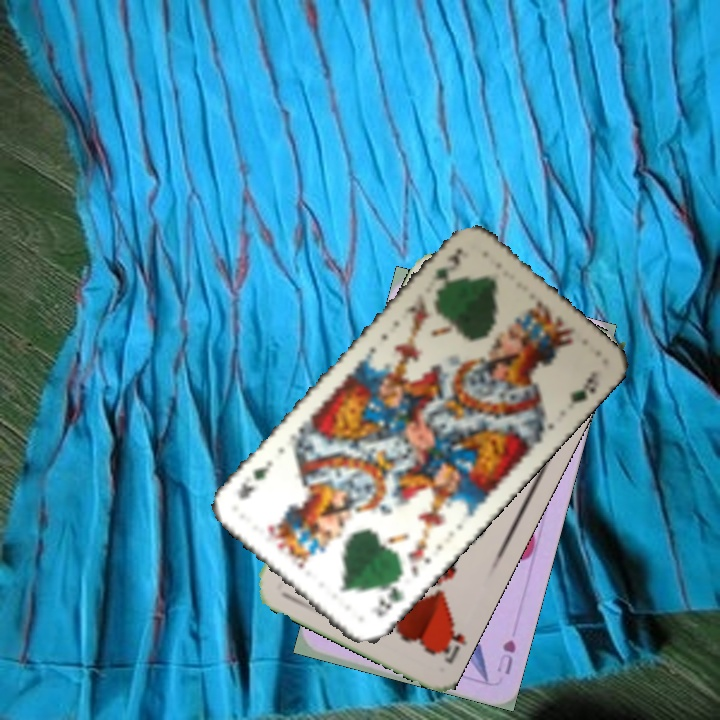GK: (430, 243, 469, 293), (367, 573, 408, 620)
HO: (431, 614, 469, 666)
HU: (493, 636, 519, 678)
